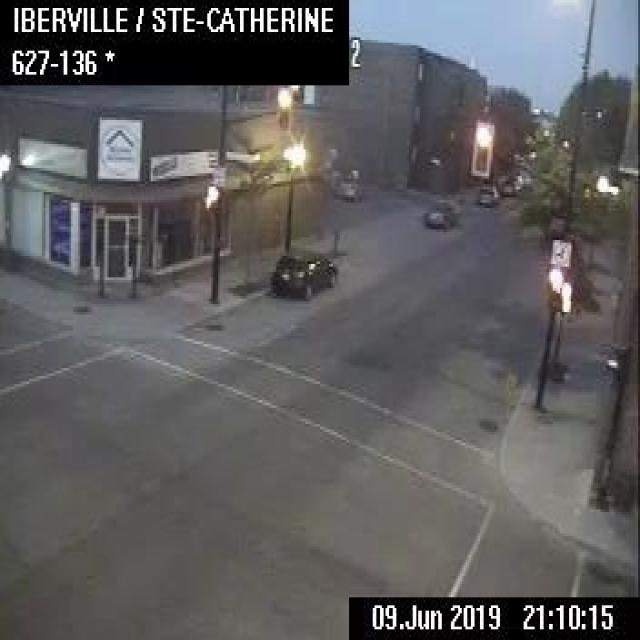vehicle: (271, 248, 334, 299), (424, 200, 454, 227), (334, 176, 361, 201), (476, 183, 499, 205), (498, 177, 516, 193), (508, 172, 522, 189)
